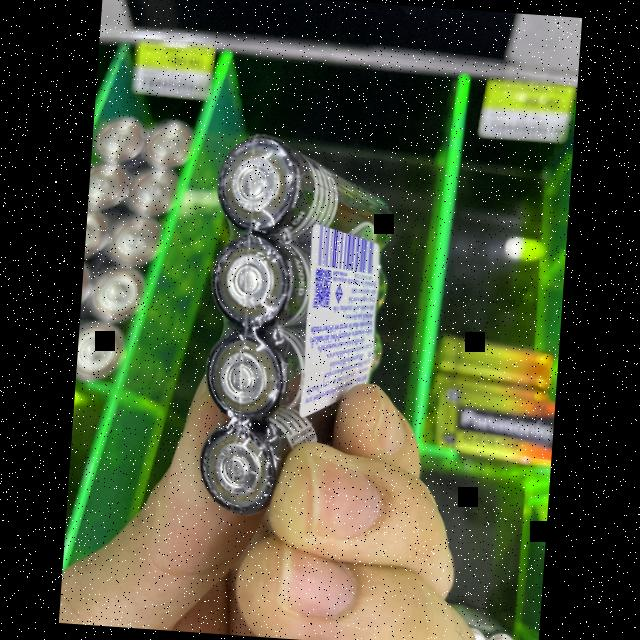battery: (200, 232, 404, 352), (212, 136, 408, 250), (200, 311, 380, 435), (190, 389, 349, 527)
